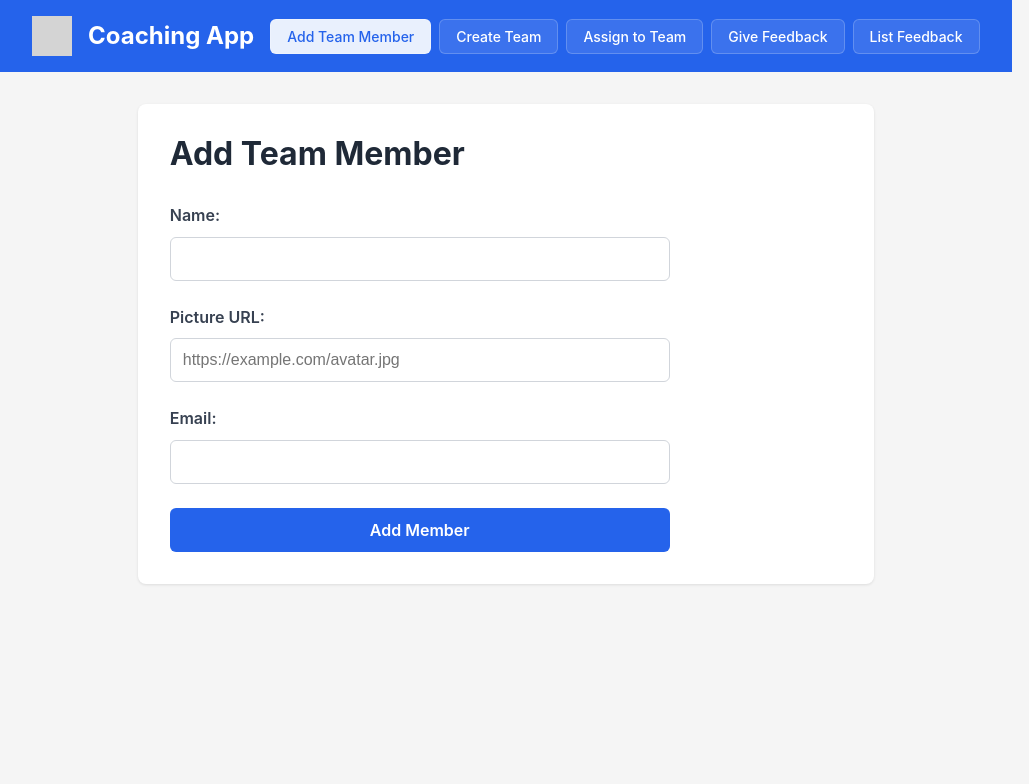
Test: Integration Tests - Basic Workflows › should navigate between all pages
Click the button "Create Team" at (499, 36), box x1=439 y1=18 x2=558 y2=54
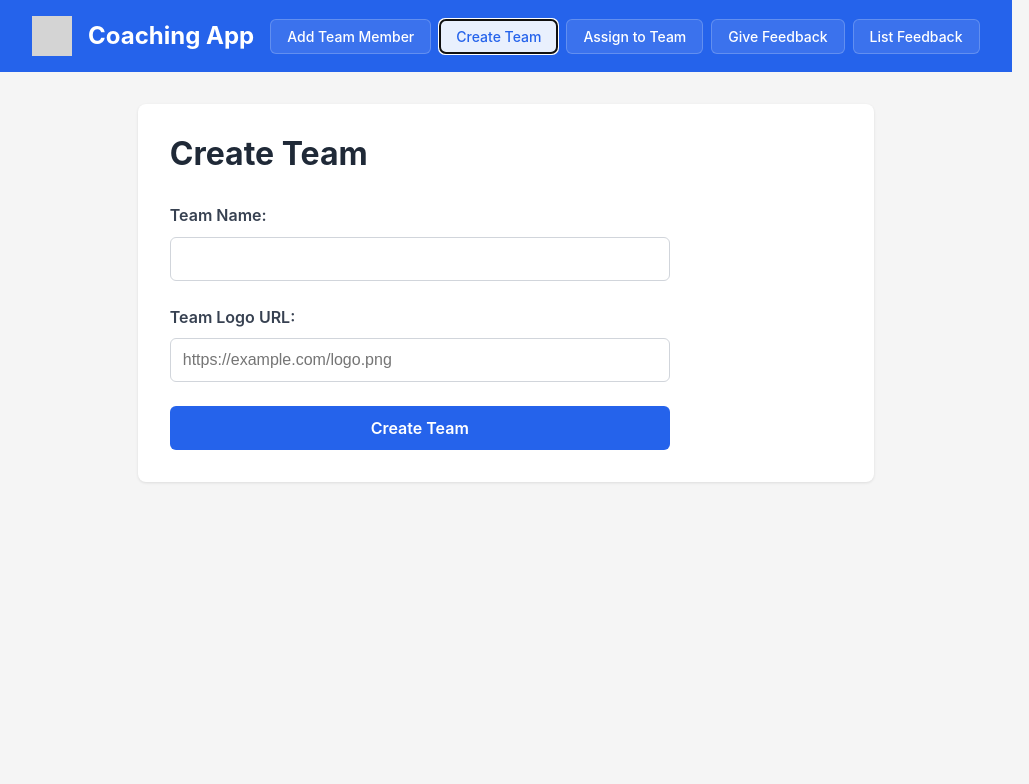
Result: the heading "Create Team" is shown at x1=170 y1=134 x2=368 y2=173
Click the button "Assign to Team" at (635, 36), box x1=566 y1=18 x2=703 y2=54
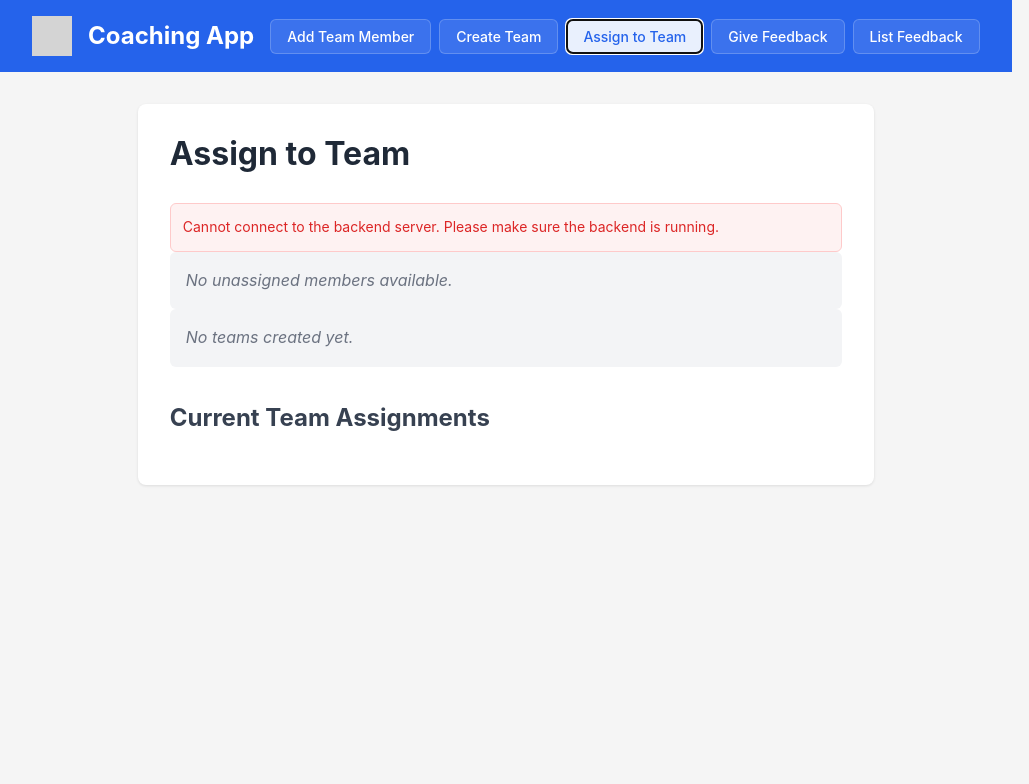
Result: the heading "Assign to Team" is shown at x1=170 y1=134 x2=410 y2=173
Click the button "Give Feedback" at (778, 36), box x1=711 y1=18 x2=844 y2=54
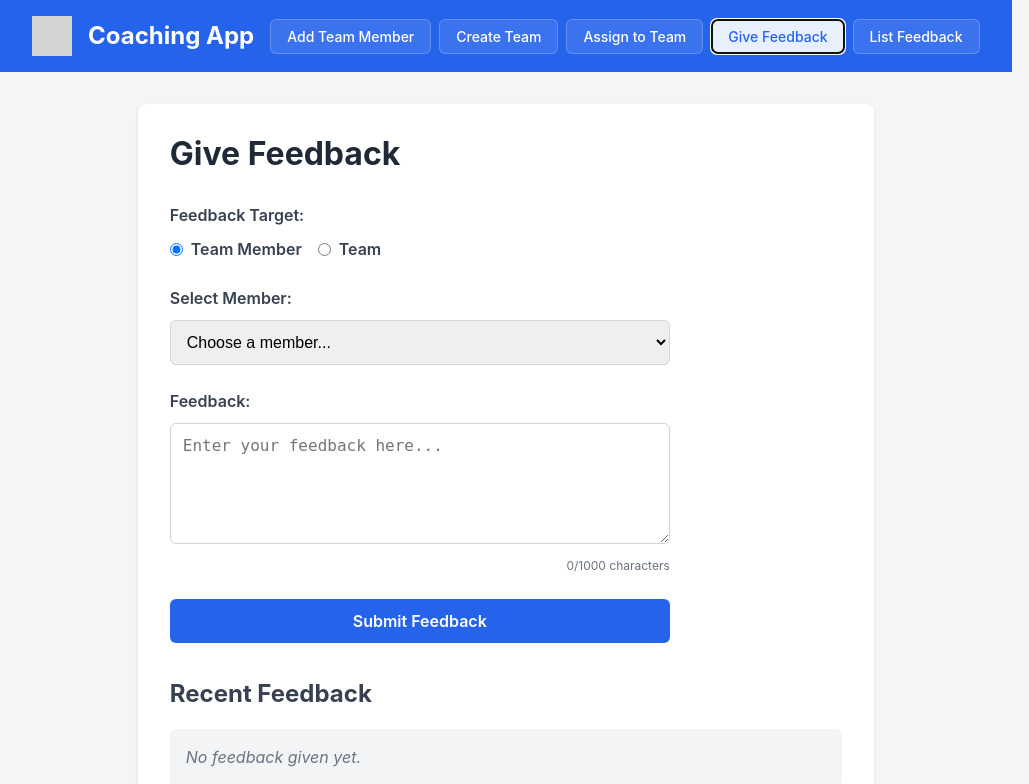
Result: the heading "Give Feedback" is shown at x1=170 y1=134 x2=400 y2=173
Click the button "Add Team Member" at (351, 36), box x1=270 y1=18 x2=431 y2=54
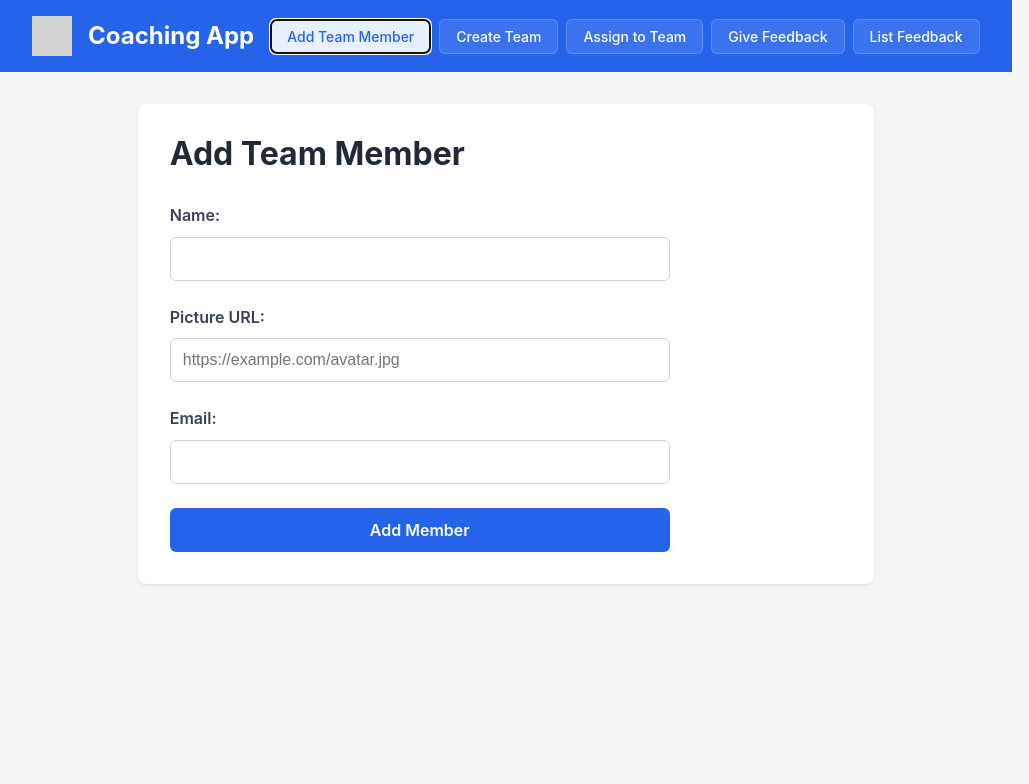
Result: the heading "Add Team Member" is shown at x1=170 y1=134 x2=465 y2=173
